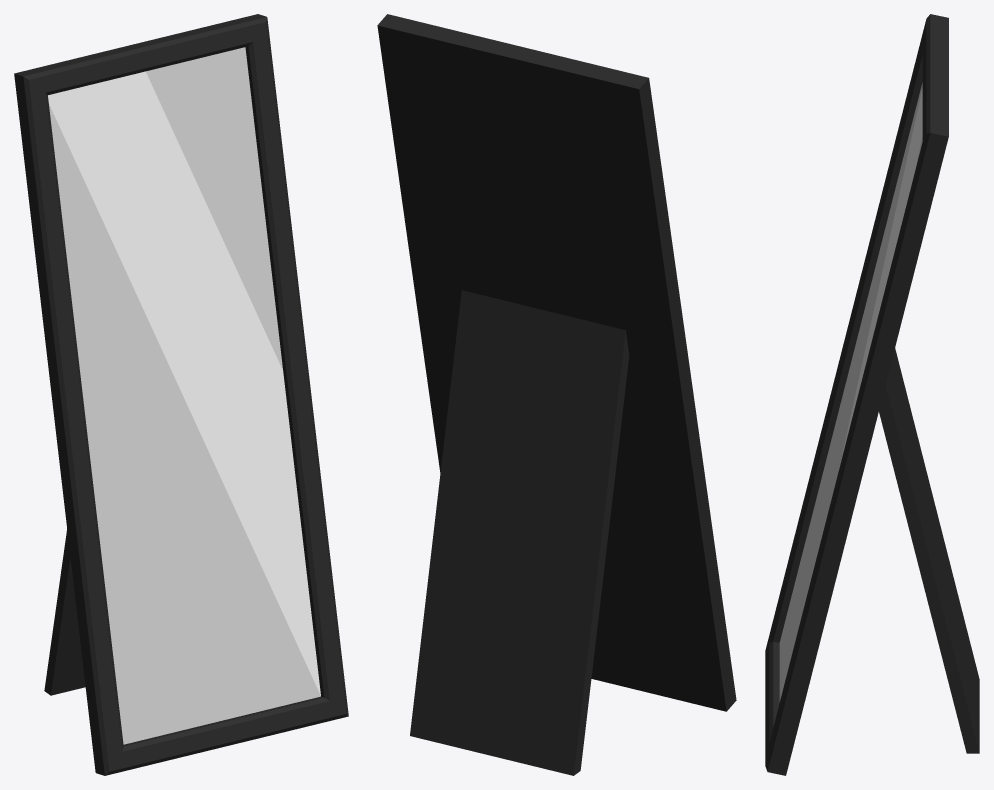
Rendered from Mirror.glb.
3 renders of one model, left to right at view 1: azimuth 30°, elevation 25°; view 2: azimuth 150°, elevation 25°; view 3: azimuth 270°, elevation 25°, orthographic. The views are drawn at different scales.
Visible parts, largest first — view 1: Mirror; view 2: Mirror; view 3: Mirror.
Boxes of the visible parts, x1,y1,x2,y2 form: Mirror: (14, 14, 348, 775); Mirror: (377, 14, 736, 775); Mirror: (765, 14, 979, 775).
Size of the model in its own units: 25.02 by 63.09 by 19.05.
1 material, 1 textured.
